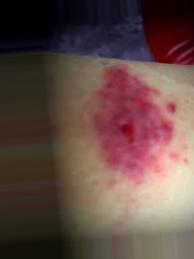Spider: (88, 60, 183, 187)
